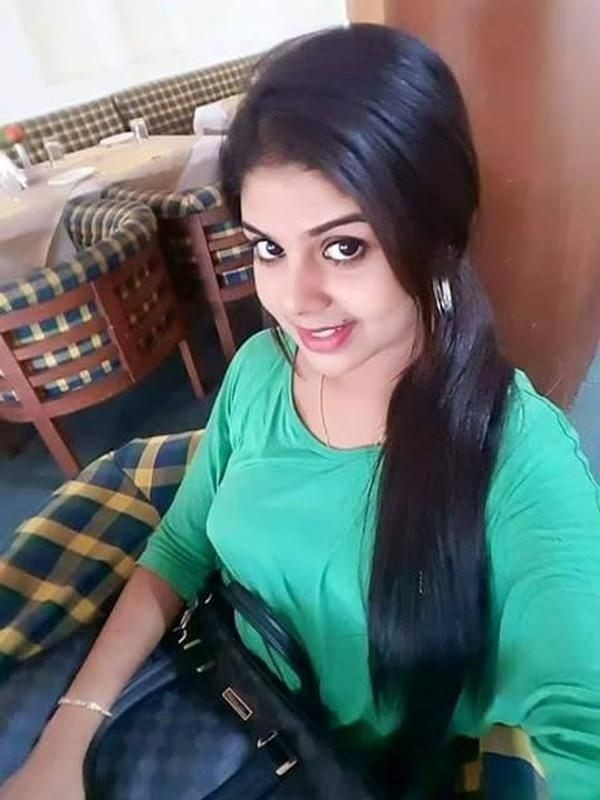face_no_mask: (234, 121, 435, 381)
